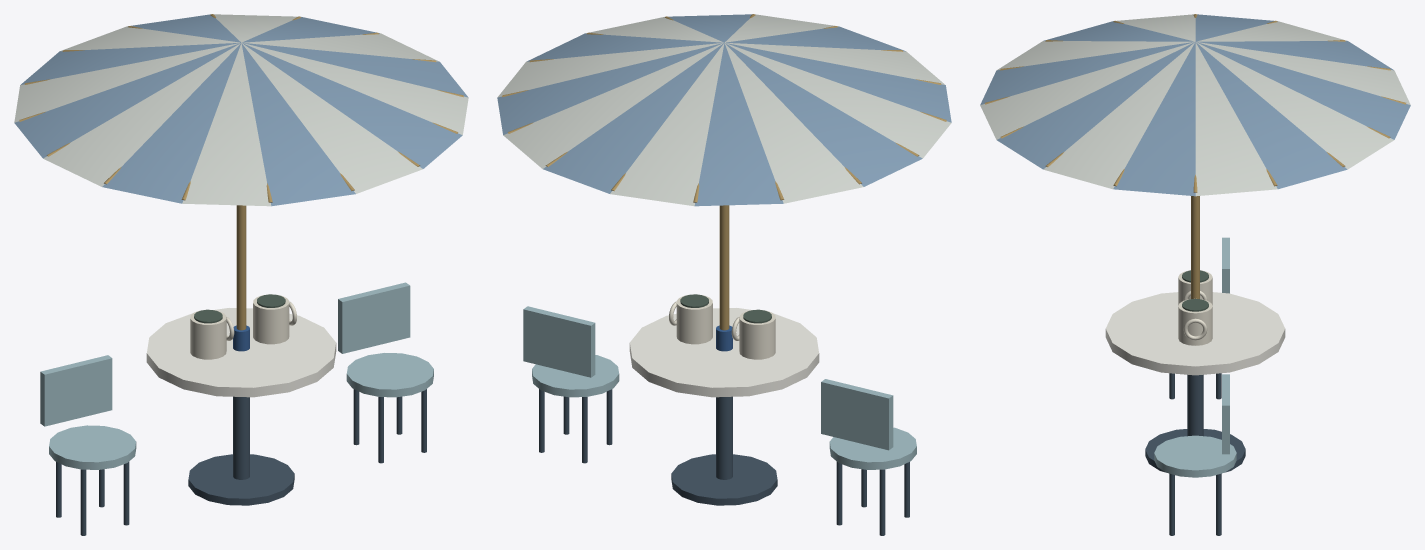
File: v18_street_parasol_table.glb
3 renders of one model, left to right at view 1: azimuth 30°, elevation 25°; view 2: azimuth 150°, elevation 25°; view 3: azimuth 270°, elevation 25°, orthographic. The views are drawn at different scales.
Parts seen in each view (by area): view 1: _MeshInstance3D_4356, _MeshInstance3D_4323, _MeshInstance3D_4329, _MeshInstance3D_4335, _MeshInstance3D_4322, _MeshInstance3D_4324, _MeshInstance3D_4330, _MeshInstance3D_4360, _MeshInstance3D_4357, _MeshInstance3D_4321, _MeshInstance3D_4339; view 2: _MeshInstance3D_4356, _MeshInstance3D_4323, _MeshInstance3D_4329, _MeshInstance3D_4335, _MeshInstance3D_4322, _MeshInstance3D_4330, _MeshInstance3D_4324, _MeshInstance3D_4360, _MeshInstance3D_4357, _MeshInstance3D_4321, _MeshInstance3D_4339; view 3: _MeshInstance3D_4356, _MeshInstance3D_4323, _MeshInstance3D_4330, _MeshInstance3D_4357, _MeshInstance3D_4322, _MeshInstance3D_4321, _MeshInstance3D_4339, _MeshInstance3D_4335, _MeshInstance3D_4360.
Boxes of the visible parts, x1,y1,x2,y2 form: _MeshInstance3D_4356: (14, 14, 468, 206); _MeshInstance3D_4323: (146, 308, 336, 397); _MeshInstance3D_4329: (40, 355, 112, 426); _MeshInstance3D_4335: (338, 282, 410, 353); _MeshInstance3D_4322: (188, 454, 294, 505); _MeshInstance3D_4324: (49, 425, 136, 469); _MeshInstance3D_4330: (346, 353, 433, 397); _MeshInstance3D_4360: (190, 309, 226, 359); _MeshInstance3D_4357: (253, 294, 289, 344); _MeshInstance3D_4321: (233, 396, 249, 479); _MeshInstance3D_4339: (236, 205, 246, 330); _MeshInstance3D_4356: (497, 14, 951, 206); _MeshInstance3D_4323: (629, 308, 819, 397); _MeshInstance3D_4329: (821, 379, 893, 450); _MeshInstance3D_4335: (523, 306, 595, 377); _MeshInstance3D_4322: (671, 454, 777, 505); _MeshInstance3D_4330: (532, 355, 619, 397); _MeshInstance3D_4324: (829, 427, 916, 469); _MeshInstance3D_4360: (739, 309, 775, 359); _MeshInstance3D_4357: (676, 294, 712, 344); _MeshInstance3D_4321: (716, 396, 732, 479); _MeshInstance3D_4339: (719, 205, 729, 330); _MeshInstance3D_4356: (980, 14, 1410, 196); _MeshInstance3D_4323: (1105, 292, 1285, 375); _MeshInstance3D_4330: (1154, 435, 1236, 477); _MeshInstance3D_4357: (1178, 298, 1212, 345); _MeshInstance3D_4322: (1145, 429, 1245, 472); _MeshInstance3D_4321: (1187, 374, 1203, 436); _MeshInstance3D_4339: (1191, 196, 1199, 298); _MeshInstance3D_4335: (1222, 374, 1229, 454); _MeshInstance3D_4360: (1178, 270, 1212, 305).
Bounding box in the file's own units: 2.35 × 2.5 × 2.35.
